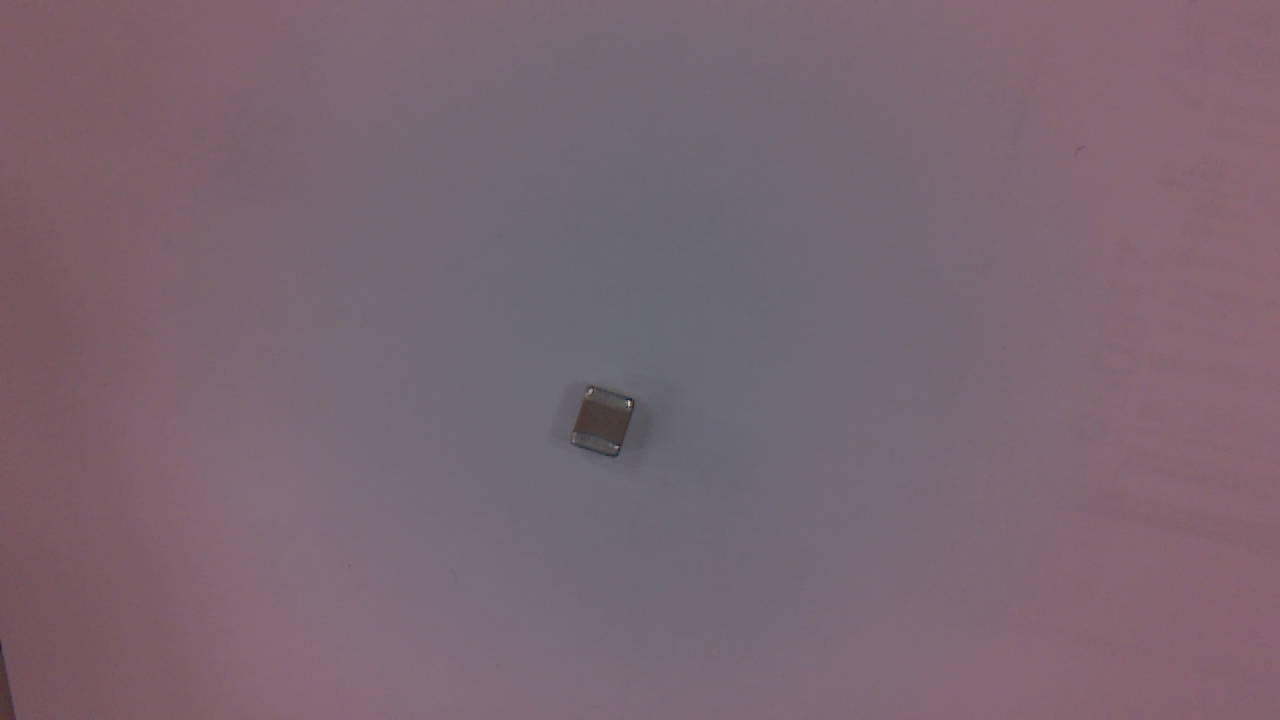Condensator: (573, 392, 644, 464)
